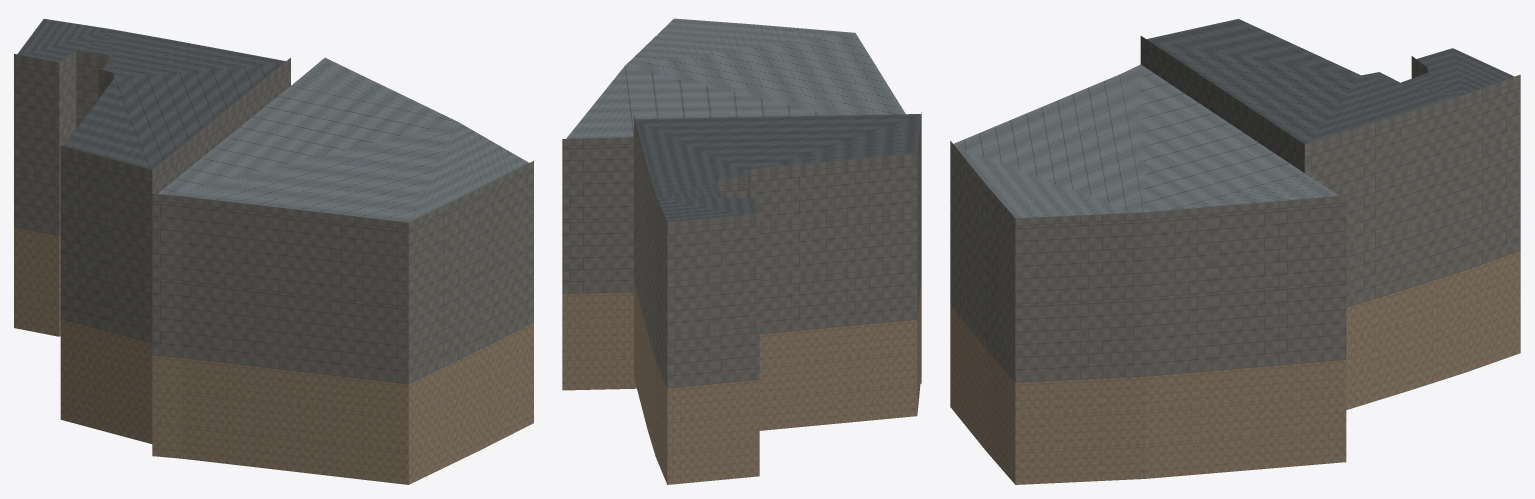
File: bld_c37_-12_543.gltf
3 views of the same model, side by side, from view 1: azimuth 30°, elevation 25°; view 2: azimuth 150°, elevation 25°; view 3: azimuth 270°, elevation 25° (orthographic). The views are drawn at different scales.
Visible parts, largest first — view 1: bld_c37_-12_543; view 2: bld_c37_-12_543; view 3: bld_c37_-12_543.
Boxes of the visible parts, bbox=[...] form: bld_c37_-12_543: bbox=[14, 19, 533, 484]; bld_c37_-12_543: bbox=[562, 18, 921, 484]; bld_c37_-12_543: bbox=[950, 19, 1520, 484].
Bounding box in the file's own units: 19.25 × 14.48 × 25.74.
Materials: 5 (5 with a texture image).
